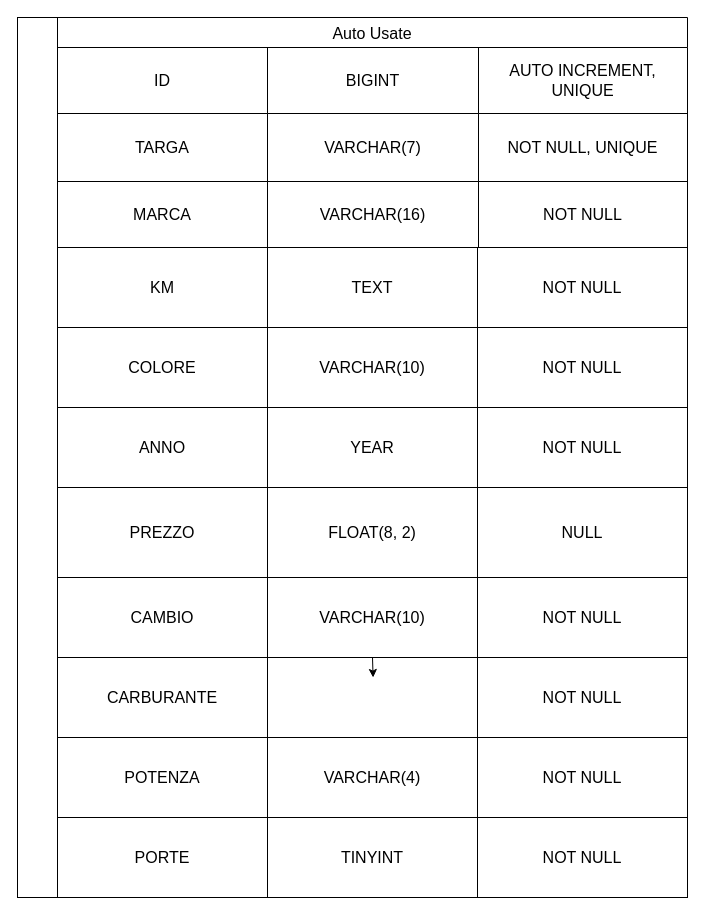
Some shapes in this 705 by 915 pixel diagram are drawn without their labels. The shapes that lost their labels are listed below. From the top down, each one's centre as x and y in pixels, then its label:
At (x=37, y=457): "PK".
At (x=372, y=697): "VARCHAR(9)".
